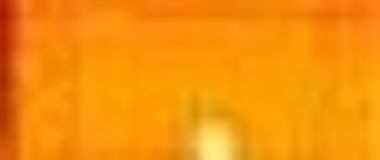Hotspot: (192, 109, 245, 160)
